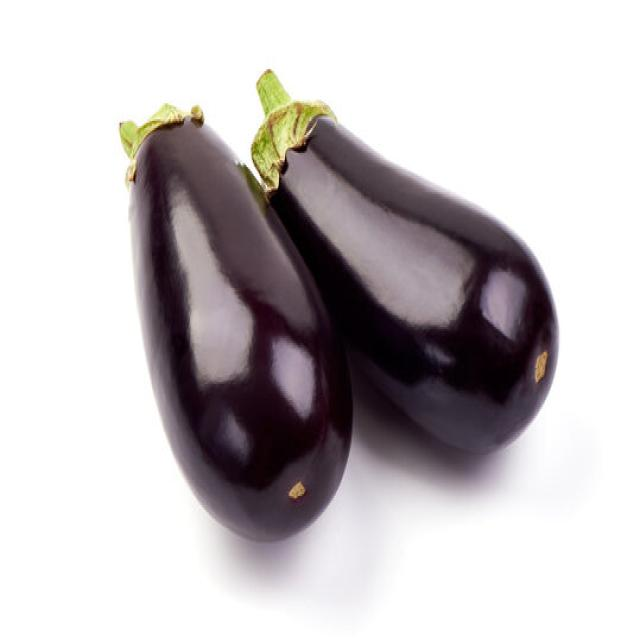Eggplant: (250, 66, 560, 455), (117, 100, 354, 542)
